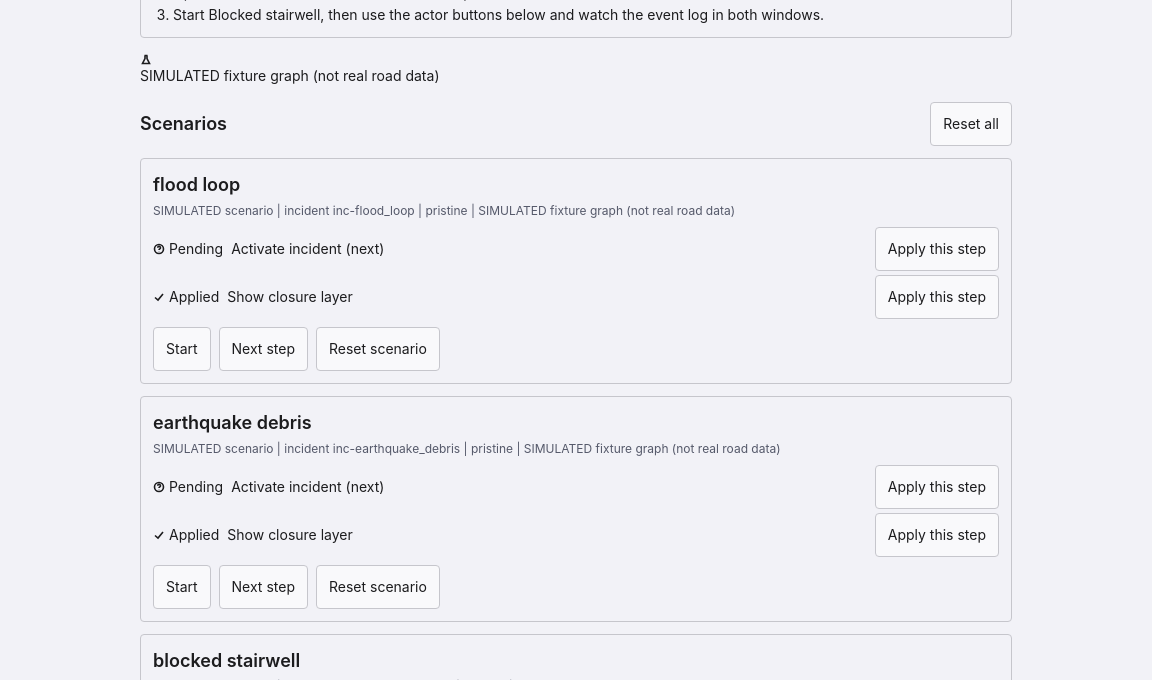
Test: DemoAdmin scenarios › shows the already-pristine no-op message and the timed reset result
This screenshot has width=1152, height=680.
(page scrolled)
Step 1. Click the button "Reset scenario" below "inc-flood_loop" → (378, 349), box left=316, top=327, right=440, bottom=371
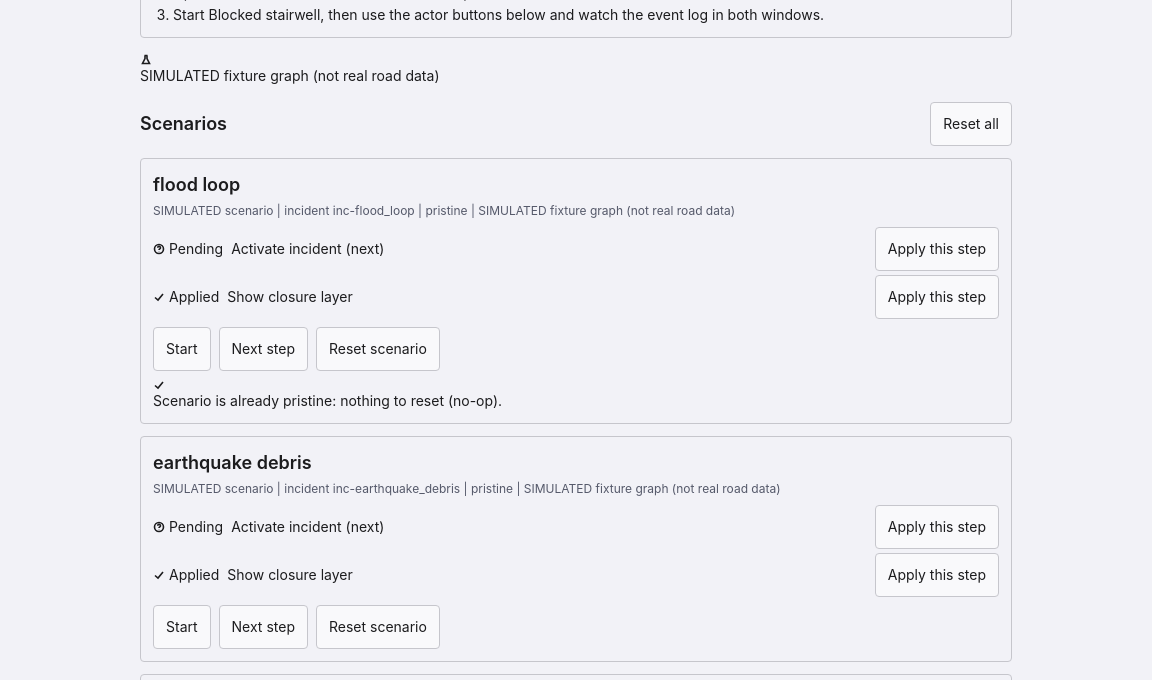
Expected: the message with test id "message-flood_loop" shows "already pristine", left=153, top=392, right=502, bottom=409
Step 2. Click the button "Reset scenario" below "inc-flood_loop" → (378, 349), box left=316, top=327, right=440, bottom=371
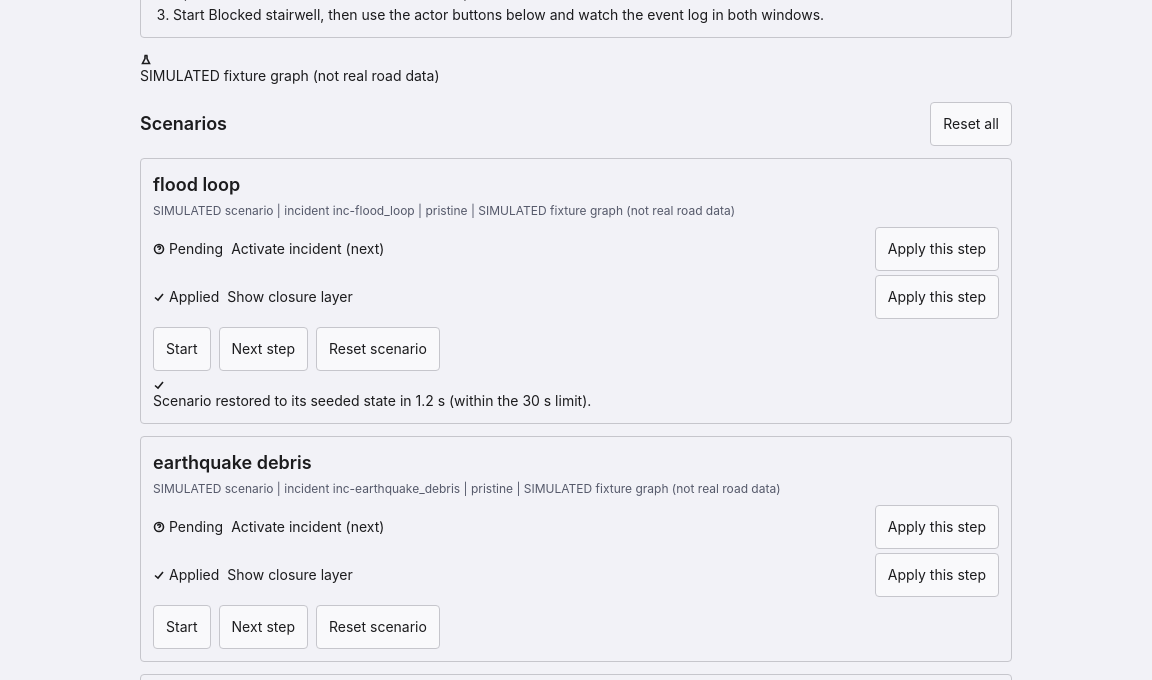
Expected: the message with test id "message-flood_loop" shows "1.2 s (within the 30 s limit)", left=153, top=392, right=591, bottom=409
